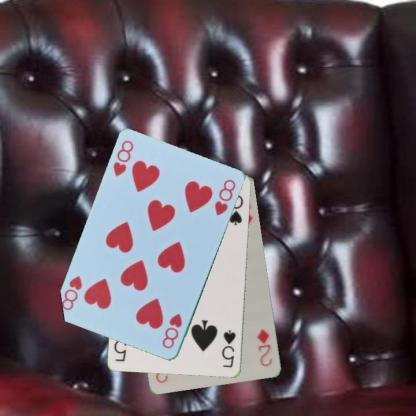2d: (254, 326, 274, 368)
5s: (219, 328, 237, 369)
8h: (110, 138, 136, 178), (159, 311, 184, 350)
